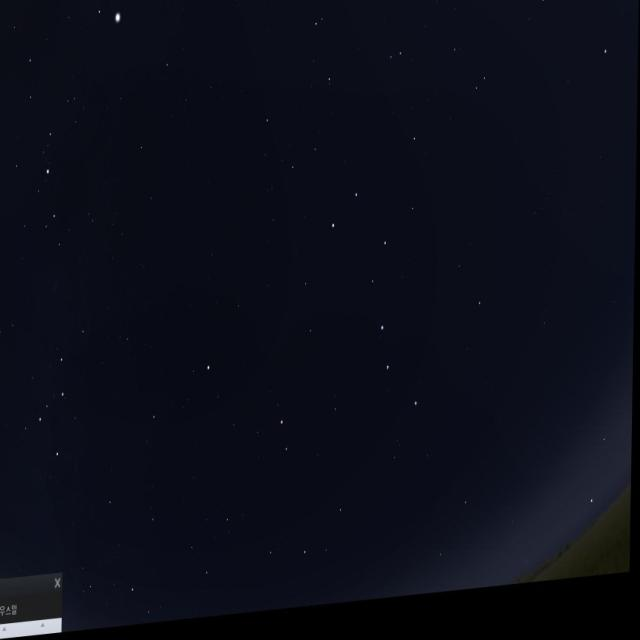cassiopeia: (29, 331, 115, 471)
ursa_major: (331, 184, 428, 442)
